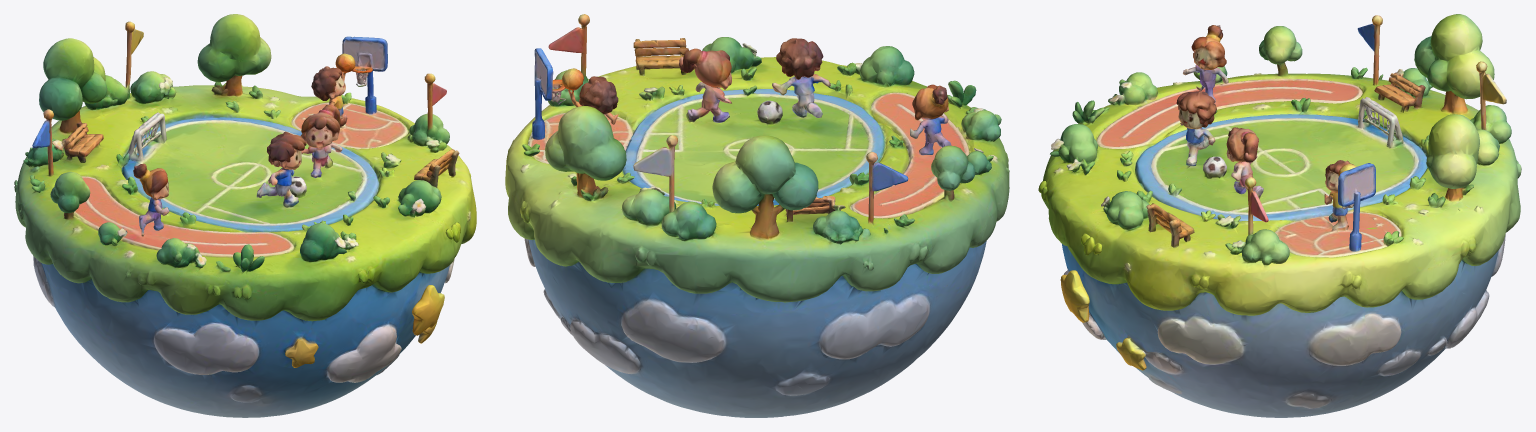
File: star_ssing_new.glb
3 renders of one model, left to right at view 1: azimuth 30°, elevation 25°; view 2: azimuth 150°, elevation 25°; view 3: azimuth 270°, elevation 25°, orthographic. The views are drawn at different scales.
Bounding box in the file's own units: 0.9964 × 0.72 × 1.
Materials: 1 (1 with a texture image).
